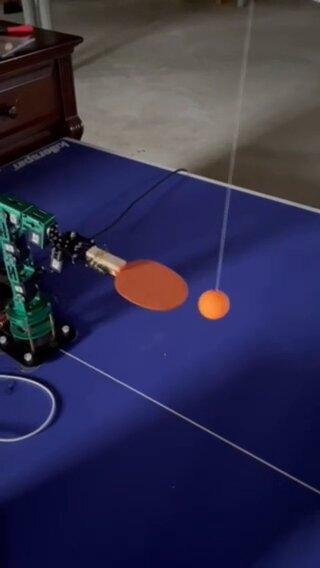oball: (198, 289, 230, 318)
